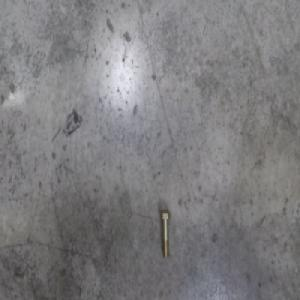Bolt: (160, 210, 172, 260)
